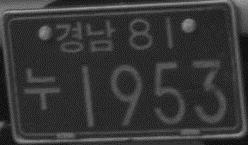1: (75, 63, 96, 129), (160, 14, 177, 51)
3: (189, 59, 228, 126)
5: (152, 59, 187, 124)
8: (127, 17, 155, 51)
9: (109, 63, 143, 128)
경남_O: (53, 20, 118, 54)
누: (22, 63, 62, 113)
